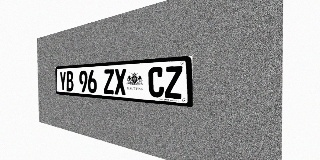6: (87, 70, 97, 93)
9: (79, 70, 88, 93)
B: (66, 71, 73, 92)
C: (148, 67, 164, 98)
X: (114, 68, 126, 95)
Y: (59, 71, 66, 91)
Z: (164, 66, 182, 99), (103, 69, 114, 94)
